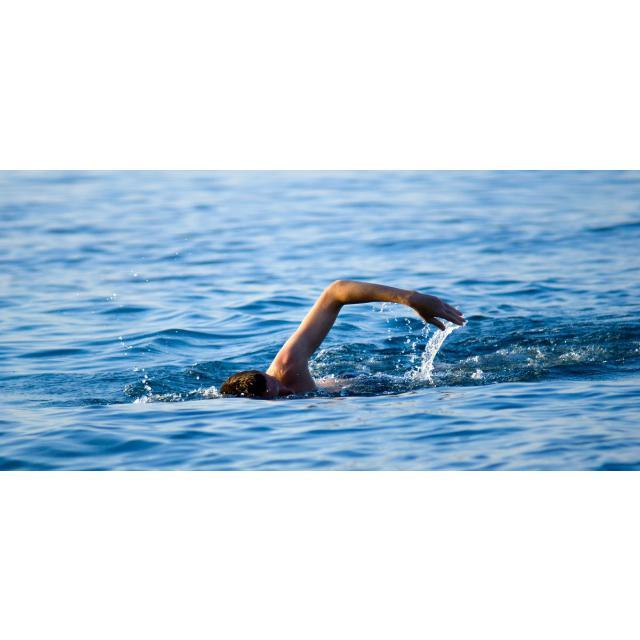human: (215, 279, 465, 399)
